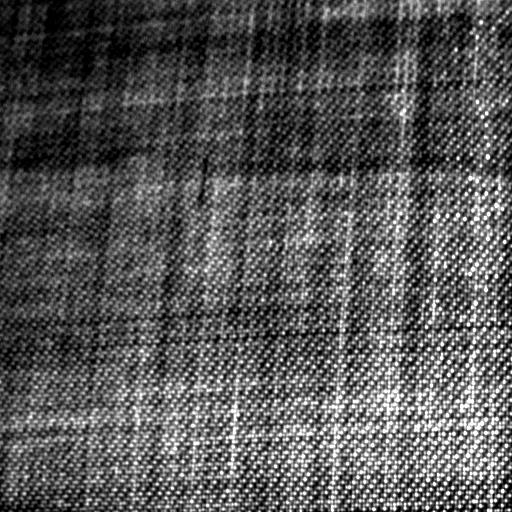fabric_perfect: (0, 2, 508, 508)
